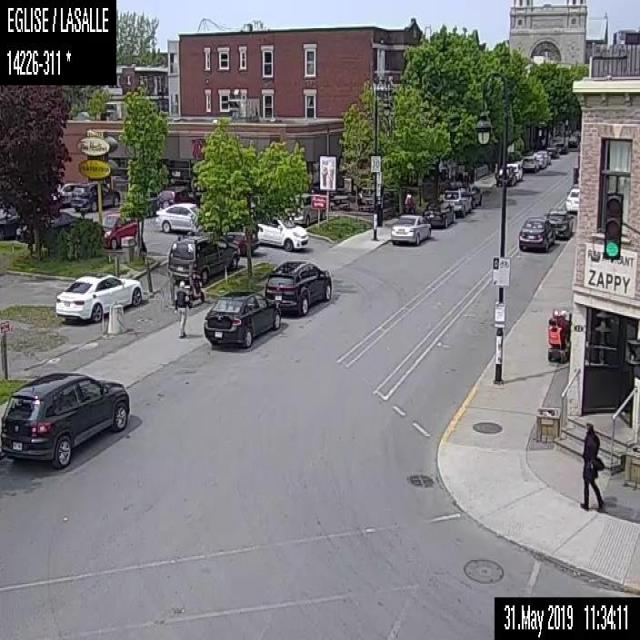pedestrian: (579, 420, 605, 512), (545, 305, 573, 363), (174, 277, 187, 338), (403, 190, 415, 212)
vehicle: (0, 368, 131, 469), (202, 290, 280, 348), (54, 272, 142, 322), (264, 258, 332, 316), (164, 234, 241, 283), (14, 211, 80, 242), (257, 216, 309, 250), (69, 180, 119, 212), (153, 201, 200, 233), (388, 212, 430, 245), (517, 216, 551, 253), (102, 212, 139, 246), (289, 190, 324, 224), (154, 184, 193, 214), (545, 205, 576, 240), (422, 198, 457, 228), (440, 188, 475, 216), (0, 205, 20, 239), (52, 181, 78, 207), (494, 164, 516, 186), (463, 183, 481, 206), (521, 154, 540, 172), (565, 186, 578, 212), (506, 162, 522, 180), (536, 148, 550, 164), (532, 152, 546, 167)
